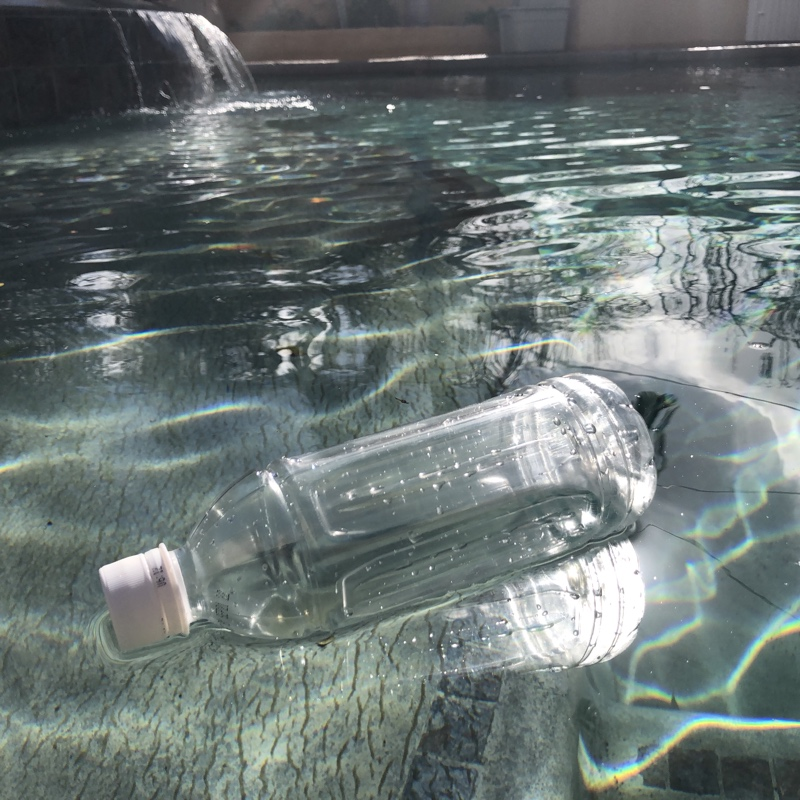Plastic Bottle: (93, 368, 659, 660)
